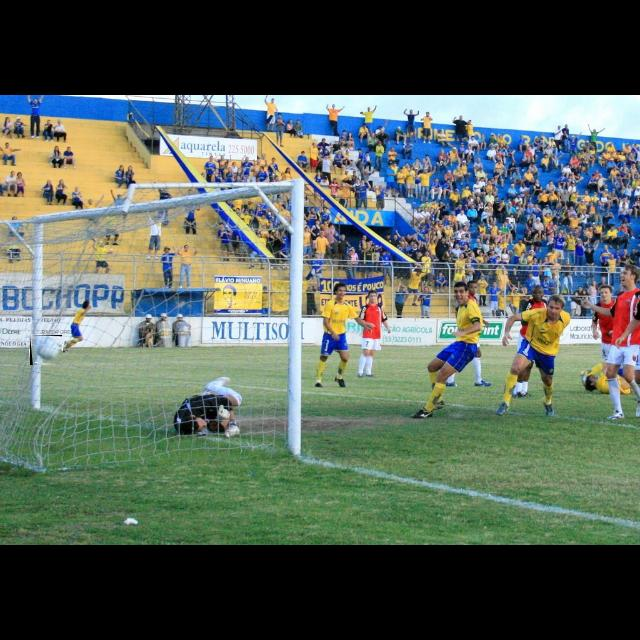Football: (30, 335, 62, 365)
